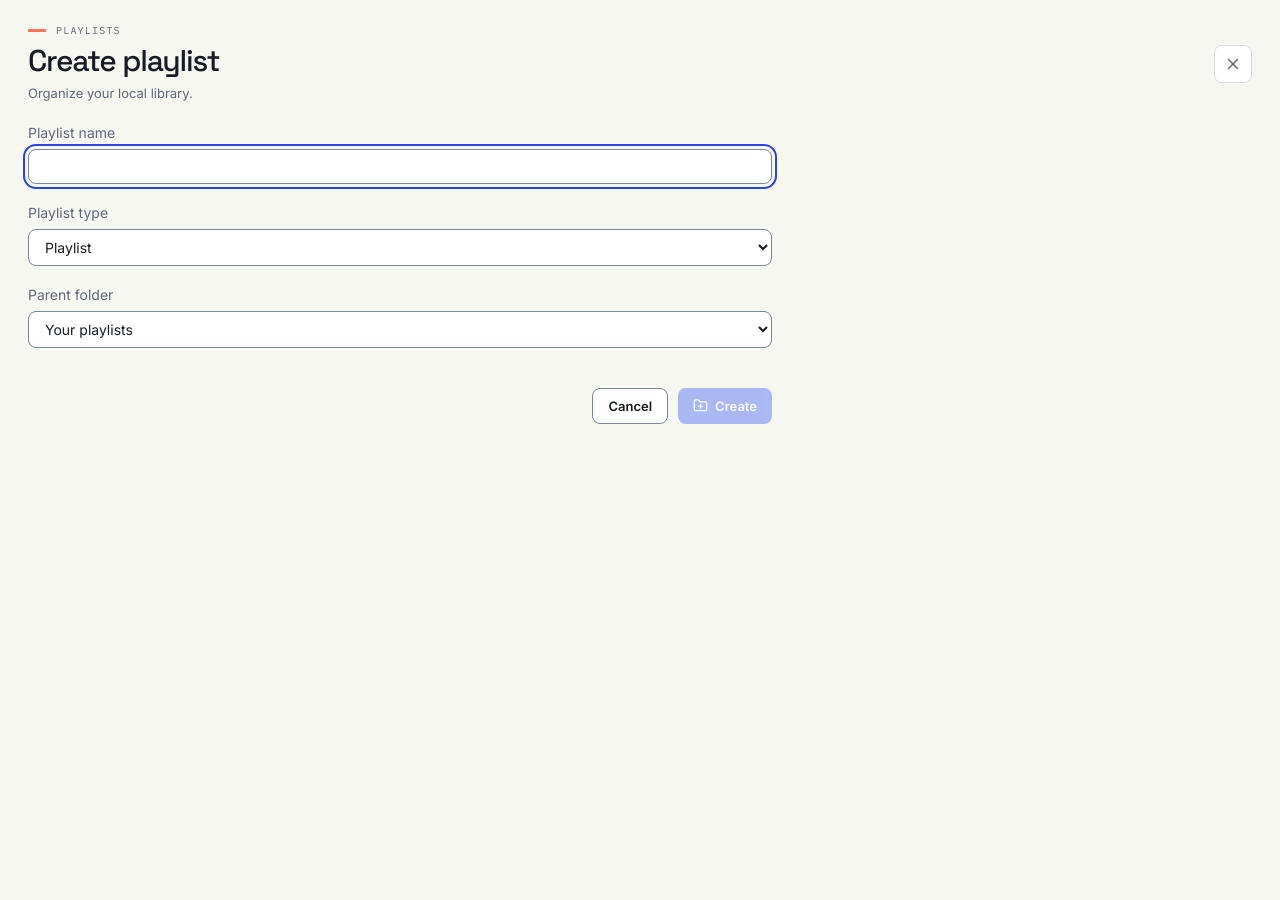
Test: smart playlist editor › blocks a rejected Date for condition 1 until a valid replacement resolves
This screenshot has width=1280, height=900.
Select "Smart playlist" in the dropdown labelled "Playlist type": (400, 247) [28,228,772,266]
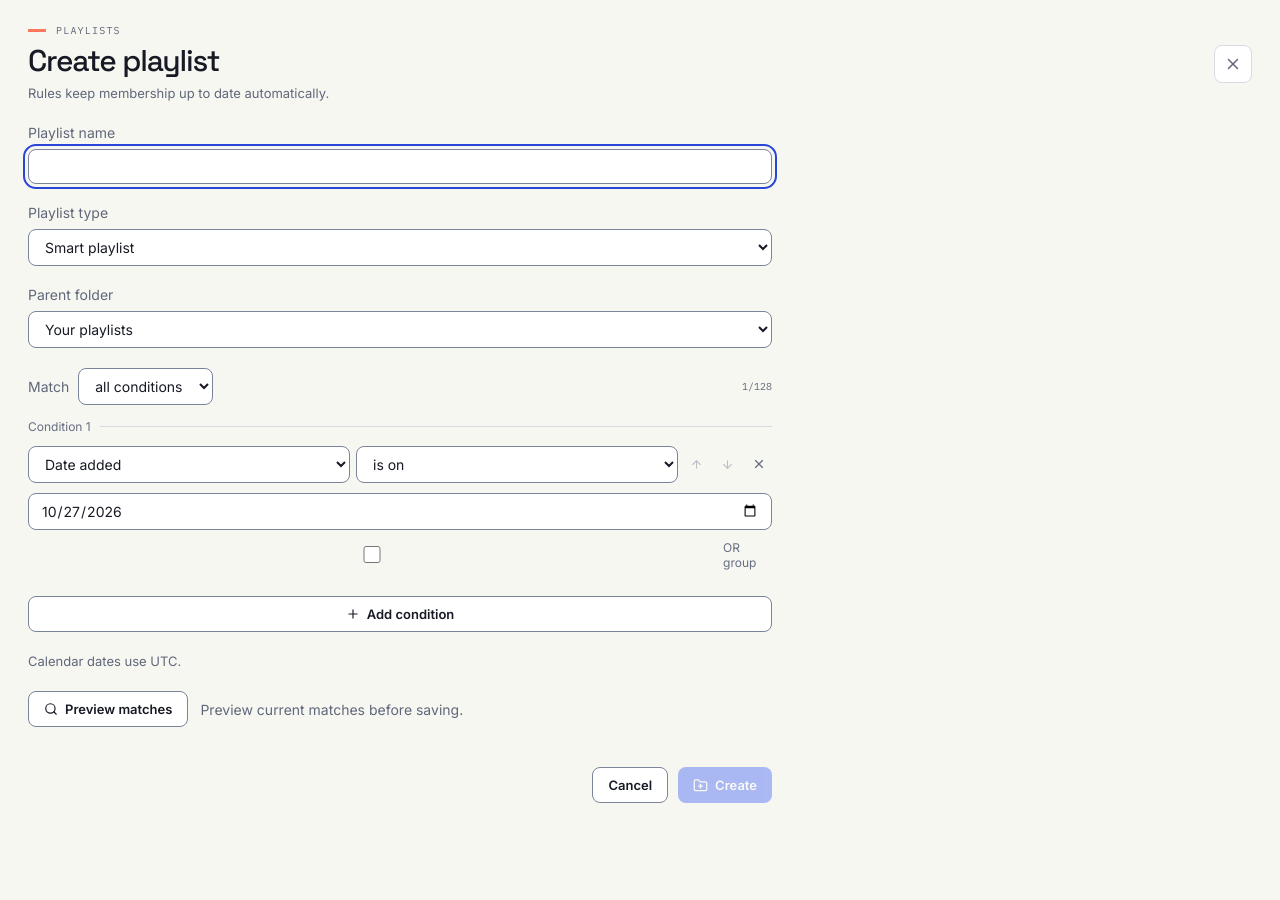
Check: the date field named "Date for condition 1" is shown, box [28,492,772,530]
In the field labelled "Playlist name": (400, 166) [28,148,772,184], type "Date list"
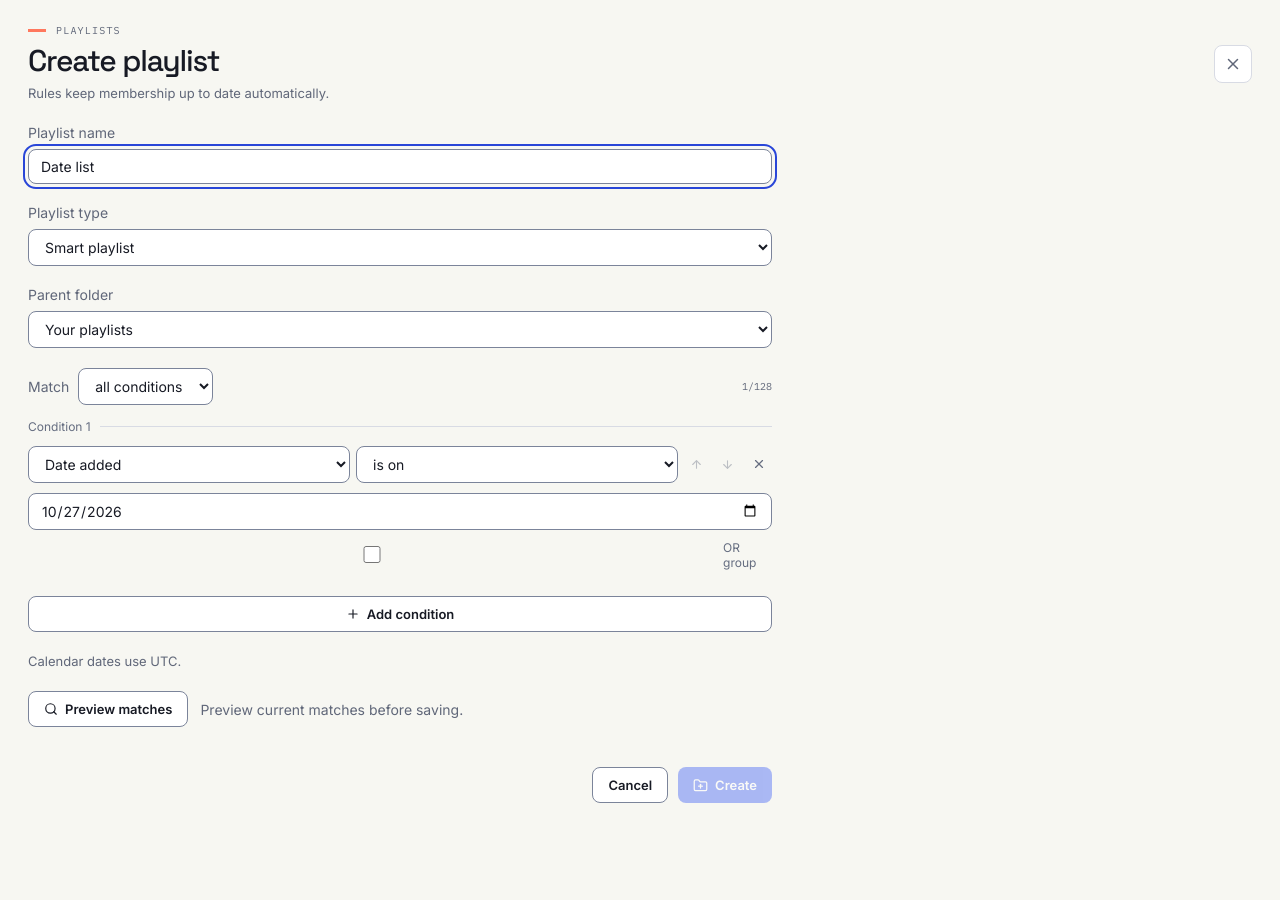
Click the button "Preview matches": (108, 709) [28,691,188,727]
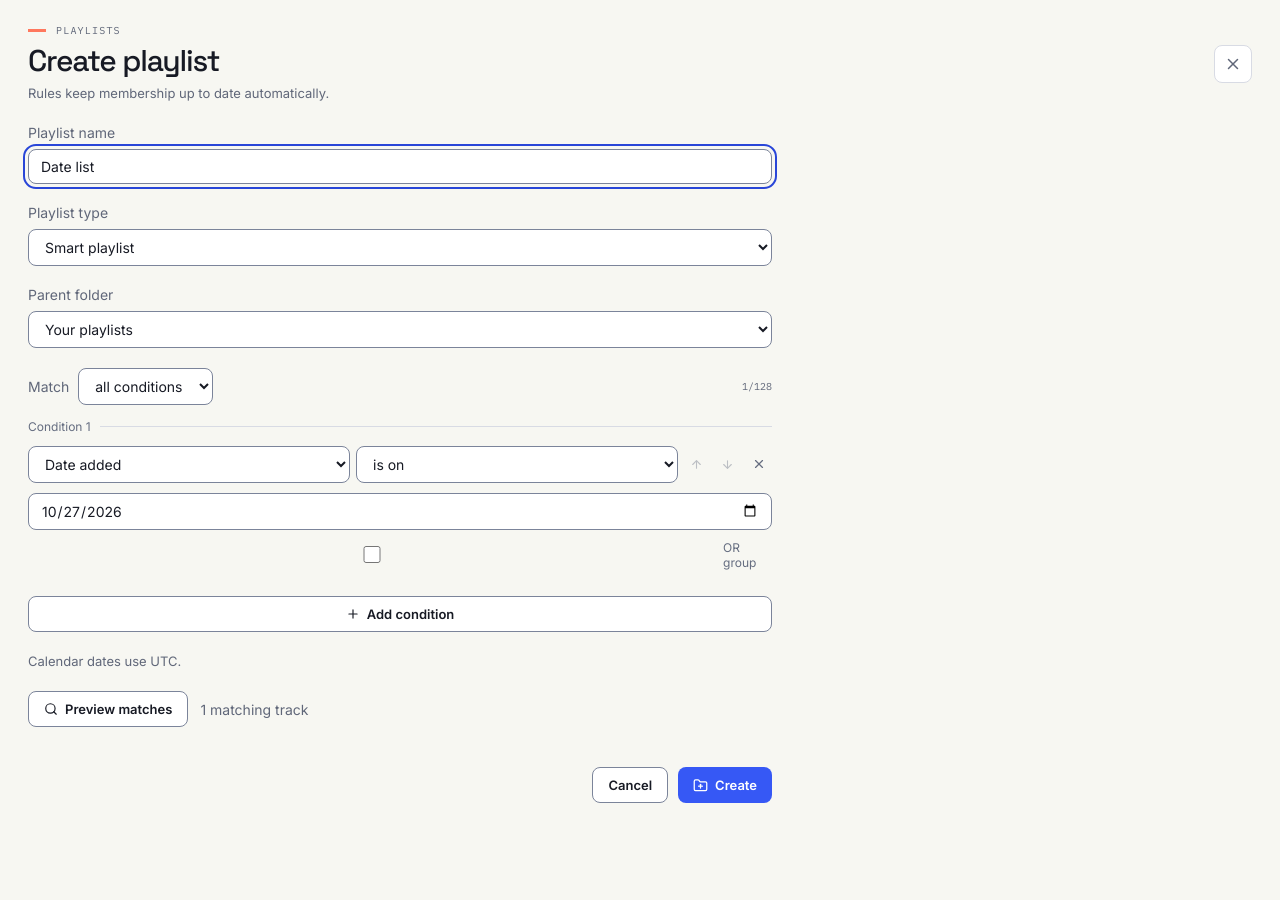
Check: the text "1 matching track" is shown, box [200,700,308,718]
In the date field named "Date for condition 1": (400, 511) [28,492,772,530], type "2026-10-16"
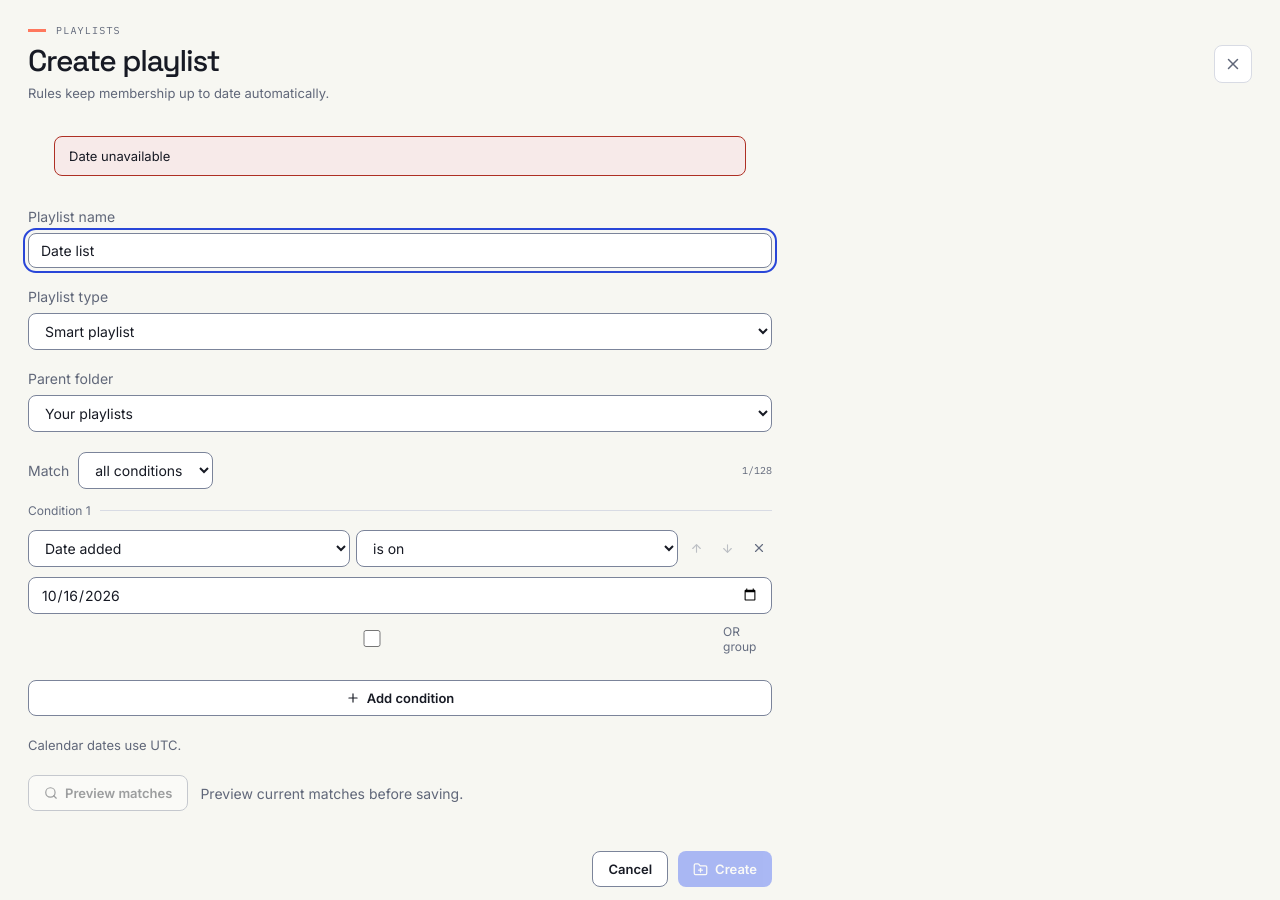
Check: the text "Date unavailable" is shown, box [54,136,746,176]
Check: the button "Preview matches" is disabled, box [28,775,188,811]
Check: the button "Create" is disabled, box [678,851,772,887]
In the date field named "Date for condition 1": (400, 595) [28,576,772,614], type "2026-10-17"
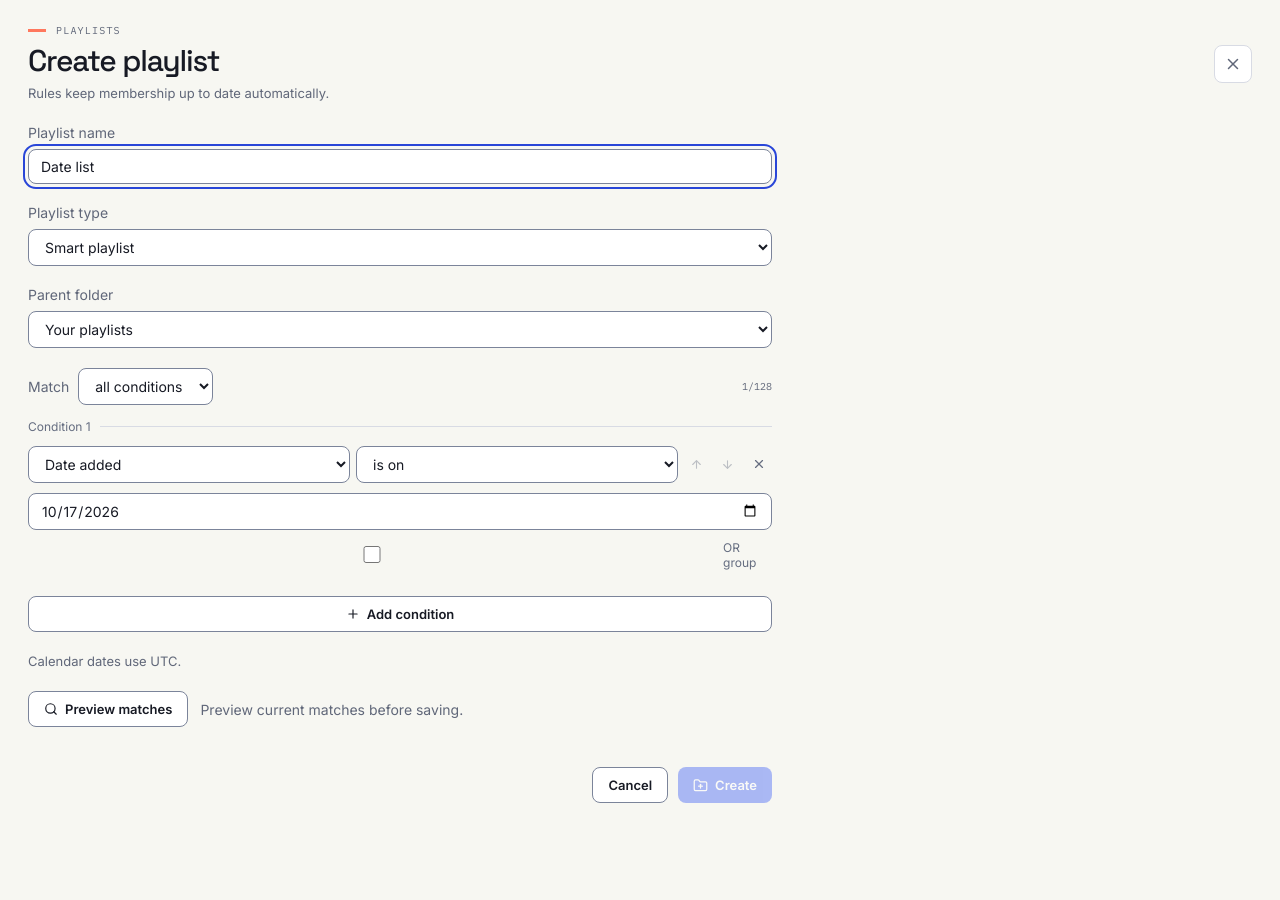
Check: the button "Create" is disabled, box [678,767,772,803]
Check: the button "Preview matches" is enabled
Click the button "Preview matches": (108, 709) [28,691,188,727]
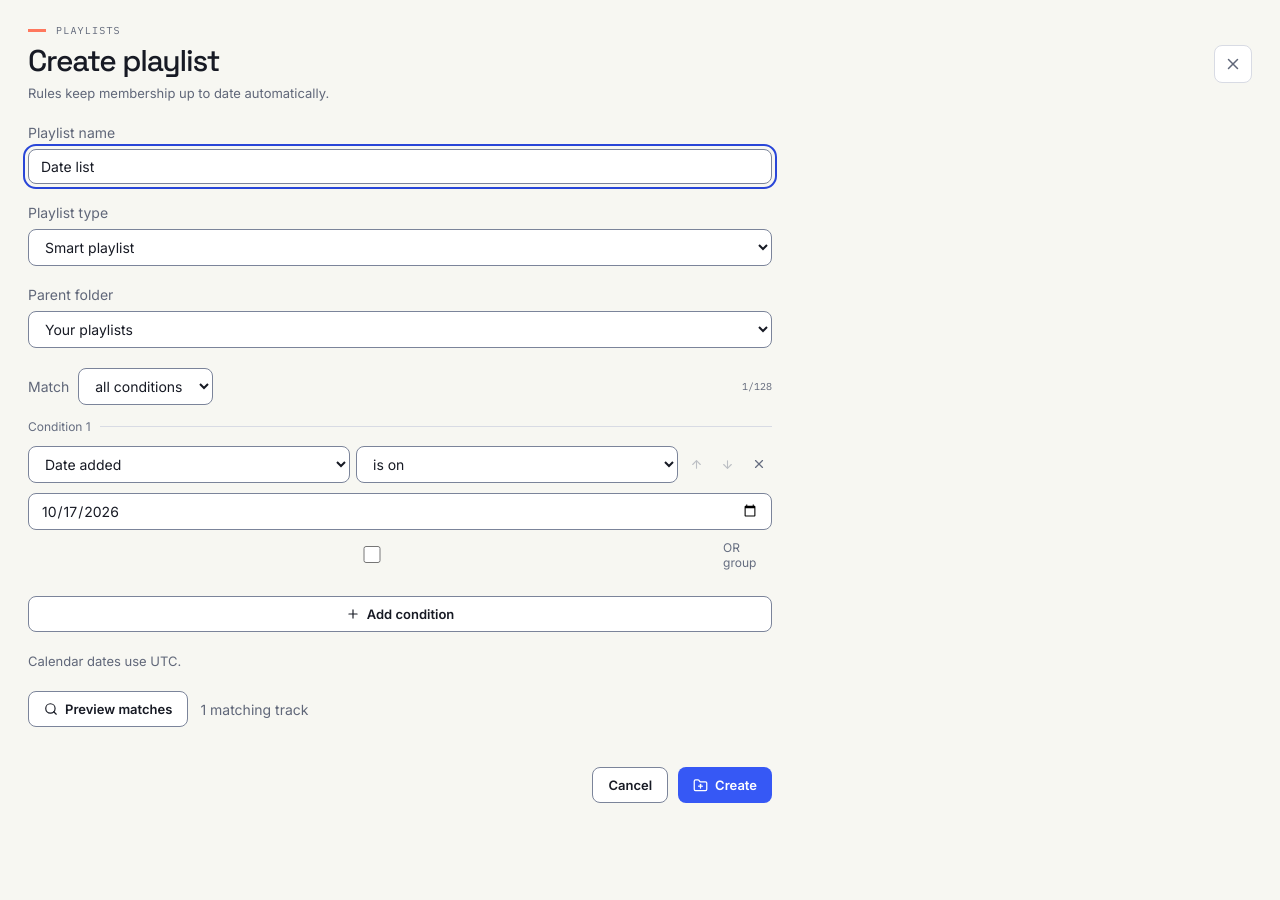
Check: the text "1 matching track" is shown, box [200,700,308,718]
